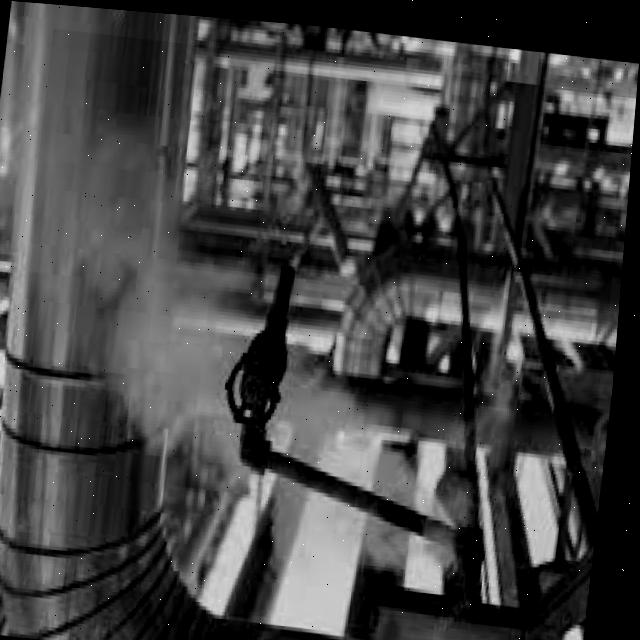corrosion: (152, 273, 543, 594)
